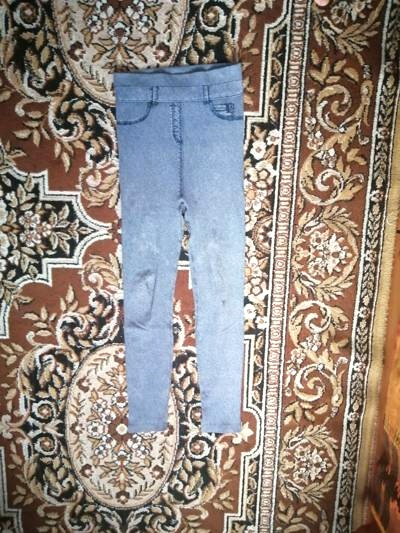Pants: (98, 33, 287, 424)
